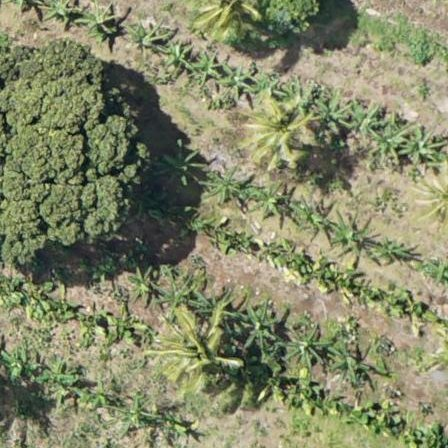palm_tree: (157, 311, 237, 391), (245, 98, 310, 164)
